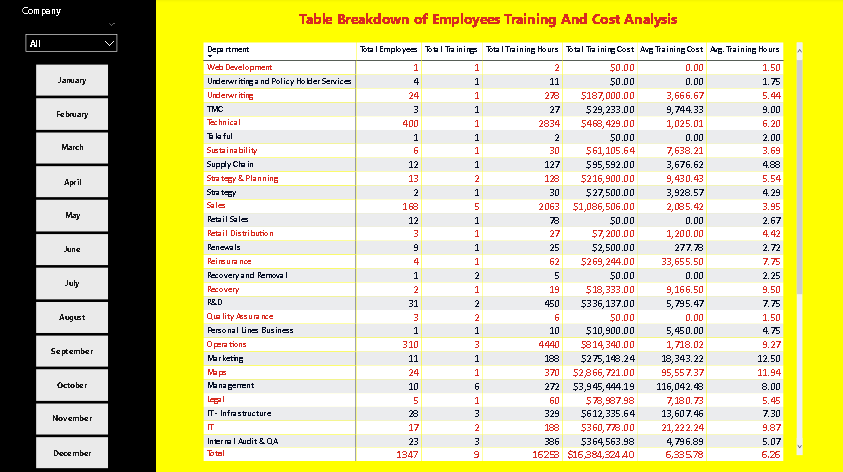

The dashboard page shown, as its layout file describes it:
{"tool":"powerbi","page":{"name":"Employees Training Analysis","canvas":[1280,720],"ordinal":1},"visuals":[{"type":"pivotTable","fields":{"Rows":["RZATrainings.Department"],"Values":["Key Measures.Total Employees","Key Measures.Total Trainings","Key Measures.Total Training Hours","Key Measures.Total Training Cost","Key Measures.Avg Training Cost","Key Measures.Avg. Training Hours"]},"box":[304.8,62.2,919.1,644.5],"z":0},{"type":"textbox","box":[259.3,10.6,964.5,51.6],"z":1000},{"type":"slicer","title":"Company","fields":{"Values":["RZATrainings.Company"]},"box":[30.3,10.6,159.2,72.8],"z":2000},{"type":"slicer","fields":{"Values":["RZATrainings.Month"]},"box":[30.3,94,159.2,626.4],"z":3000}]}

Visuals, with their boxes in screenshot pixels (x1, y1, x2, y2), scaled from the page's 1280x720 canvas onto the 843x472 screenshot:
pivotTable - RZATrainings.Department x Key Measures.Total Employees: <bbox>201, 41, 806, 463</bbox>
textbox: <bbox>171, 7, 806, 41</bbox>
"Company" slicer: <bbox>20, 7, 125, 55</bbox>
slicer - RZATrainings.Month: <bbox>20, 62, 125, 471</bbox>
